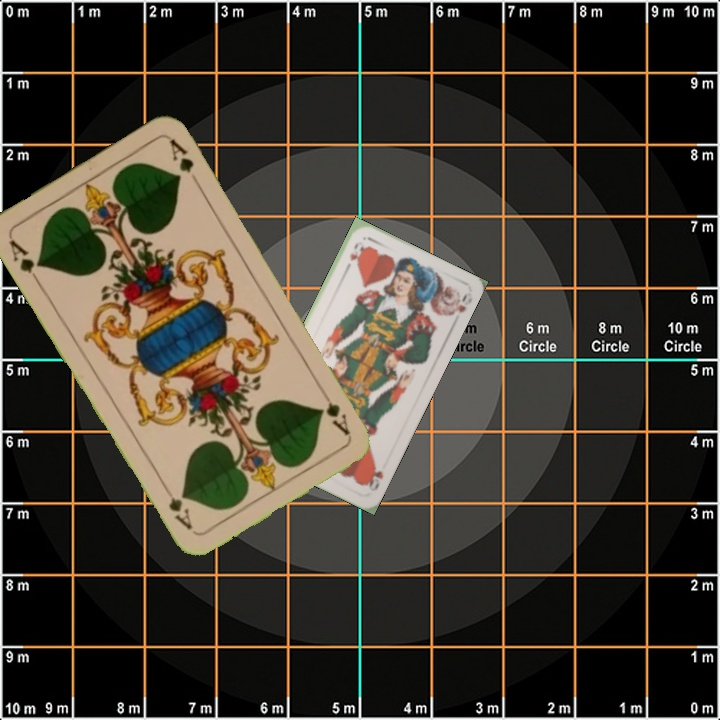GA: (5, 235, 46, 288), (315, 384, 353, 439)
HO: (341, 237, 366, 274), (362, 462, 386, 494)
